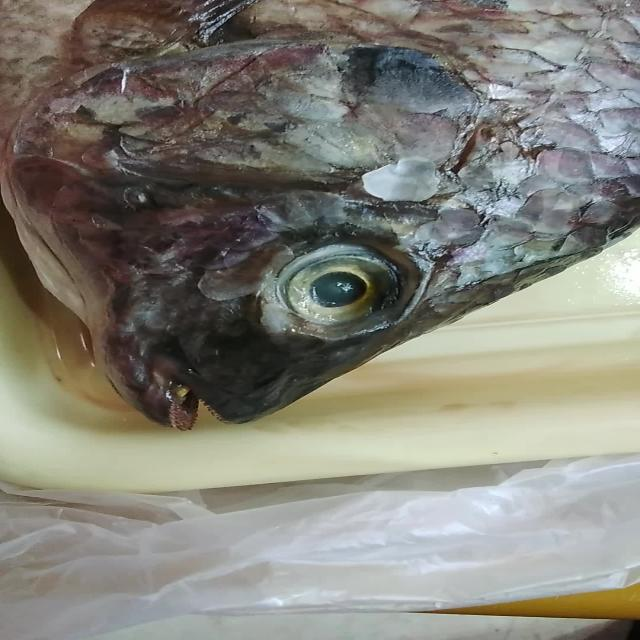Non-Fresh: (26, 2, 618, 214), (261, 234, 438, 340)
